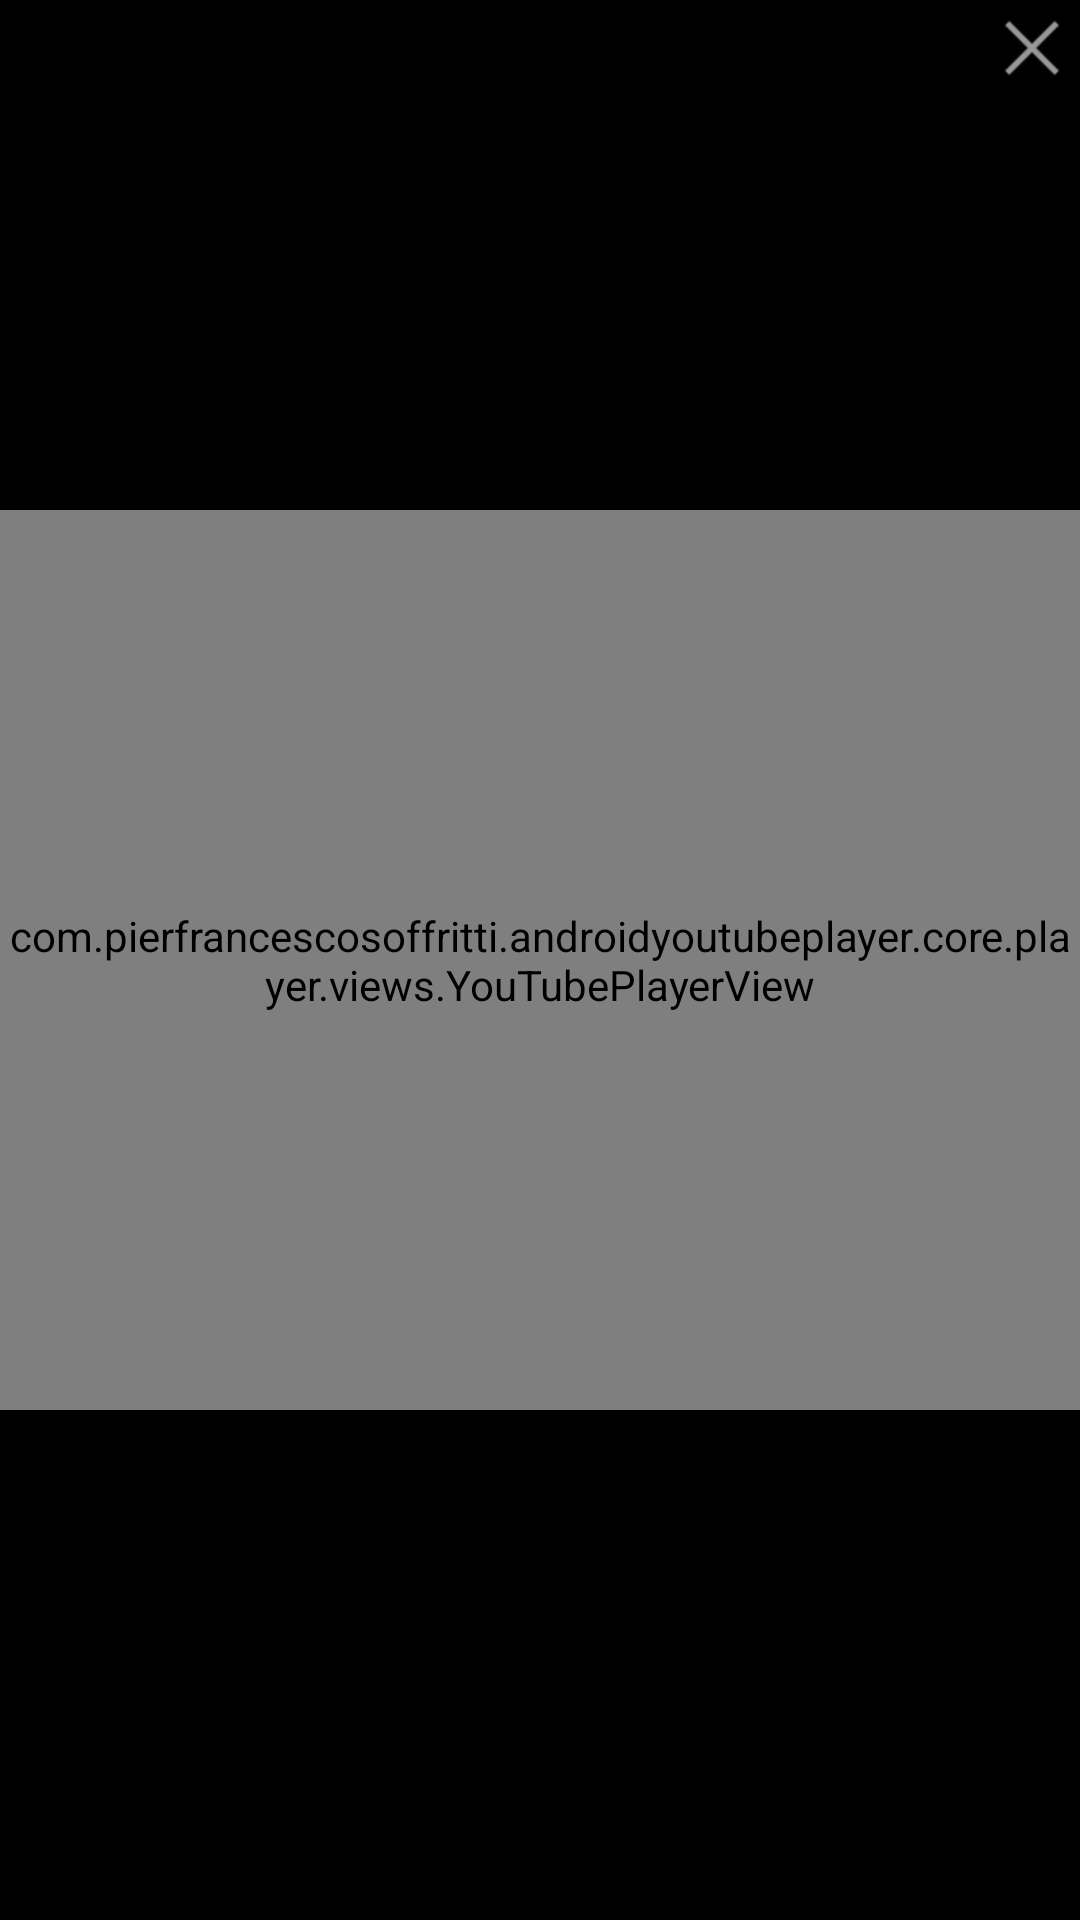

Icon click points for this 1080×1920 phone screenshot, format [x,y]:
close clear cancel: [1032,48]
